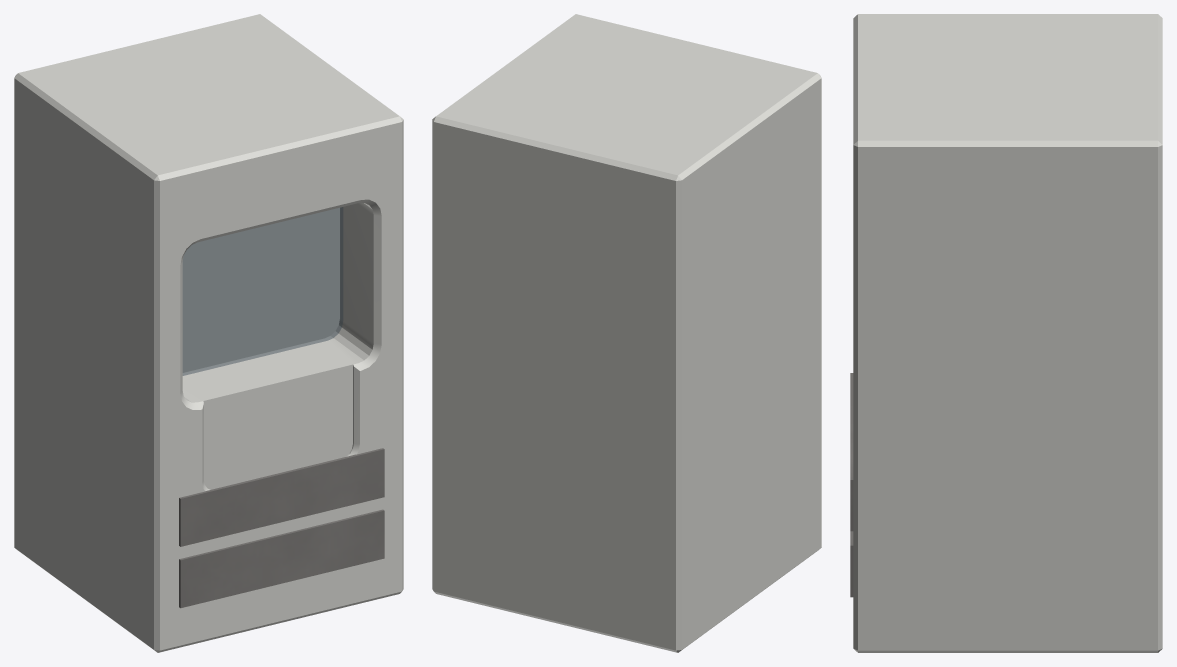
Rendered from ax_util_24_biology_rack.glb.
The picture shows the model from 3 angles, left to right: view 1: azimuth 30°, elevation 25°; view 2: azimuth 150°, elevation 25°; view 3: azimuth 270°, elevation 25°; orthographic projection. The views are drawn at different scales.
Parts seen in each view (by area): view 1: housing, growth_chamber_window, drawers; view 2: housing; view 3: housing, drawers.
Boxes of the visible parts, box(x1,y1,x2,y2) form: housing: box(14, 14, 403, 652); growth_chamber_window: box(182, 207, 343, 375); drawers: box(179, 448, 384, 608); housing: box(432, 14, 821, 652); housing: box(853, 14, 1162, 652); drawers: box(850, 373, 853, 597).
Bounding box in the file's own units: 0.98 × 1.79 × 0.99.
Materials: 3 (1 with a texture image).
